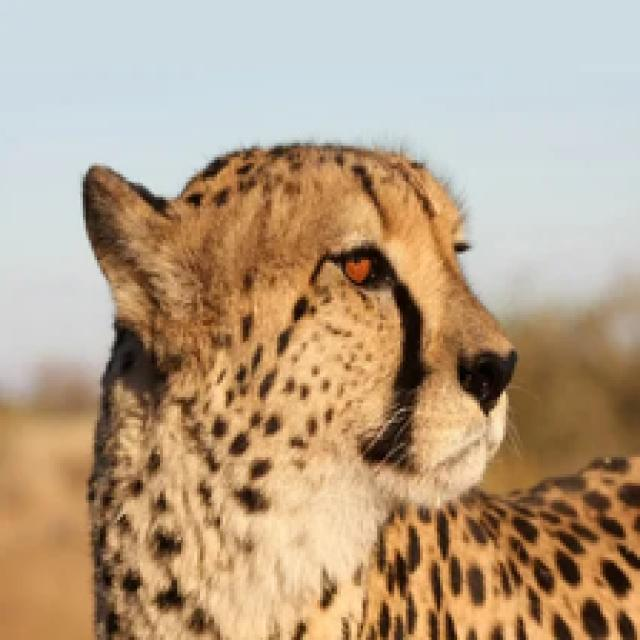cheetah: (54, 114, 640, 640)
